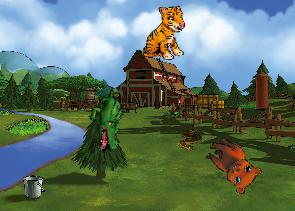bear: (196, 133, 266, 198)
crocodile: (81, 86, 134, 154)
tiger: (139, 5, 188, 62)
